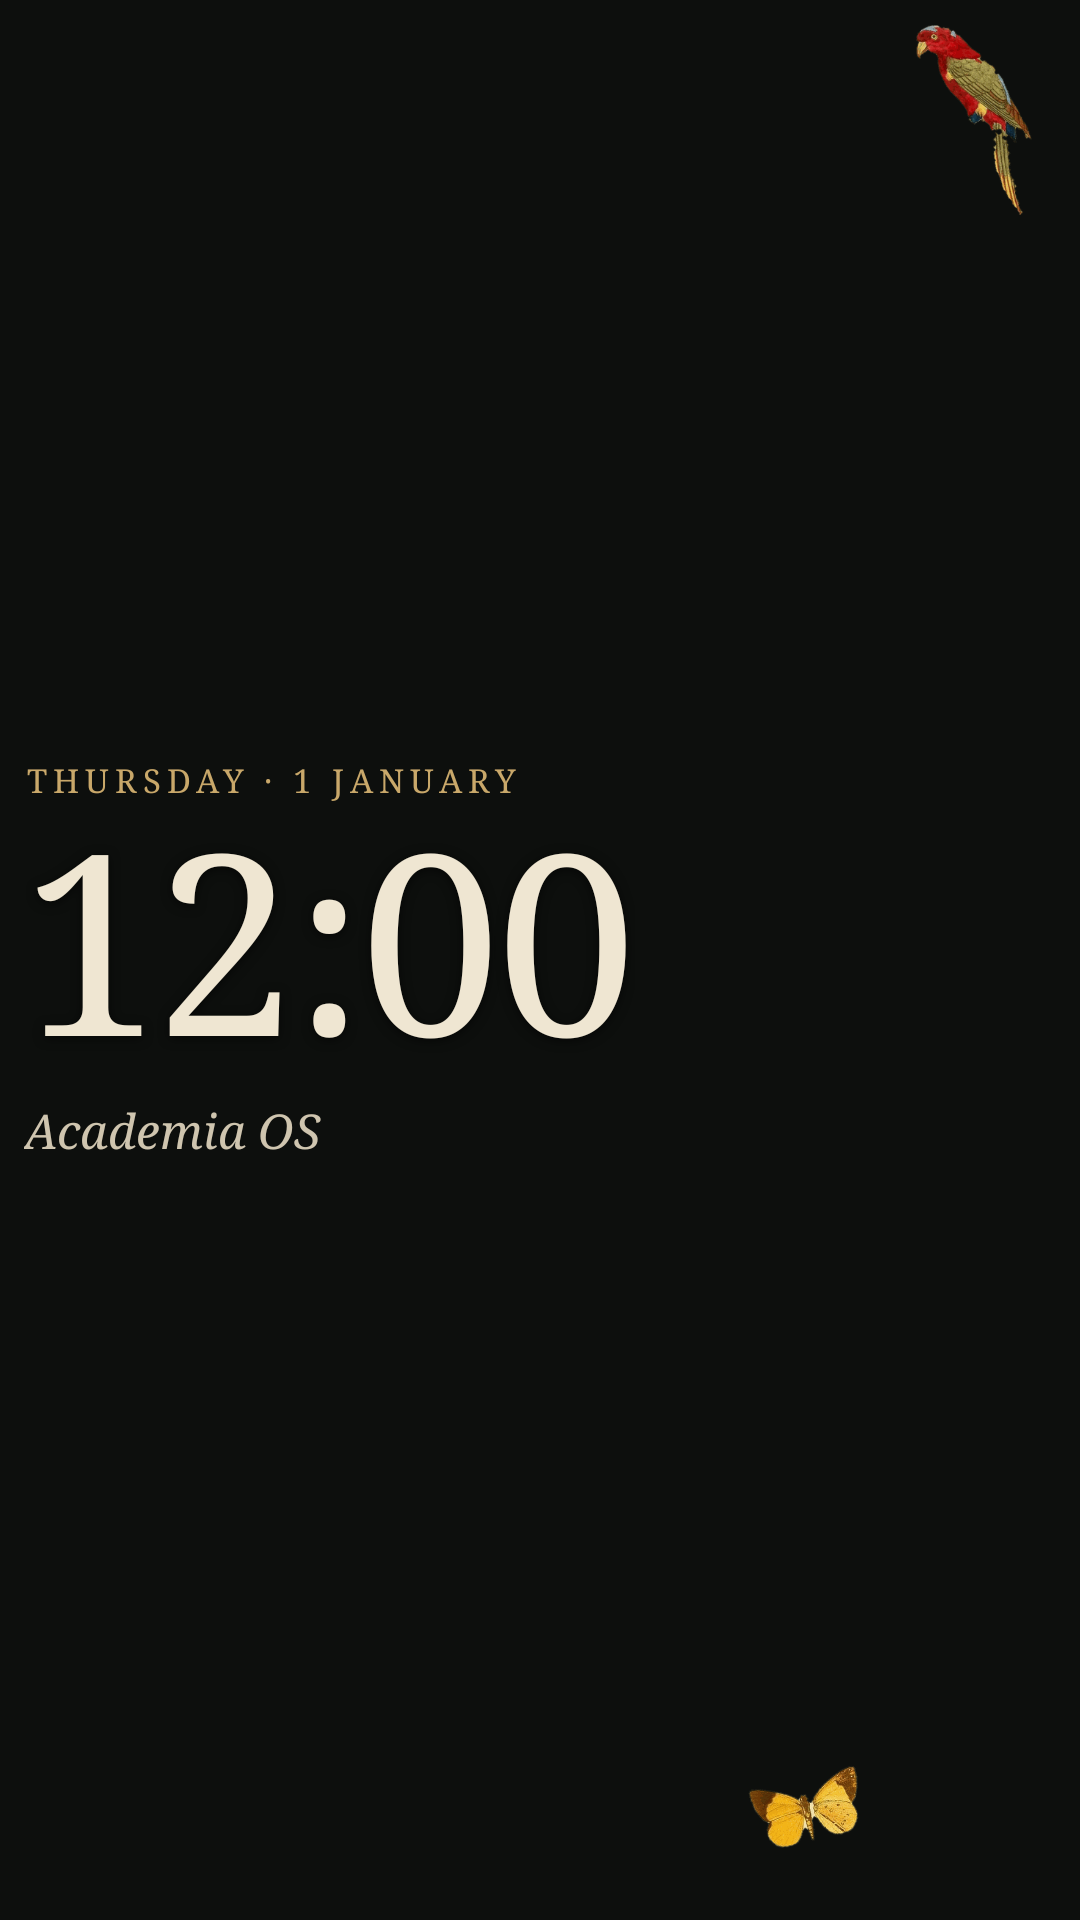

Where to tap for icons on this 1080 × 1920 app screen, as [x,y]:
lory: [973,120]
